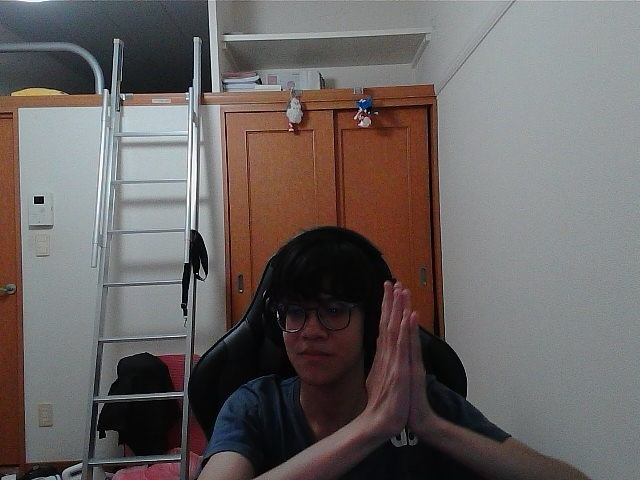pray: (375, 297, 412, 397)
